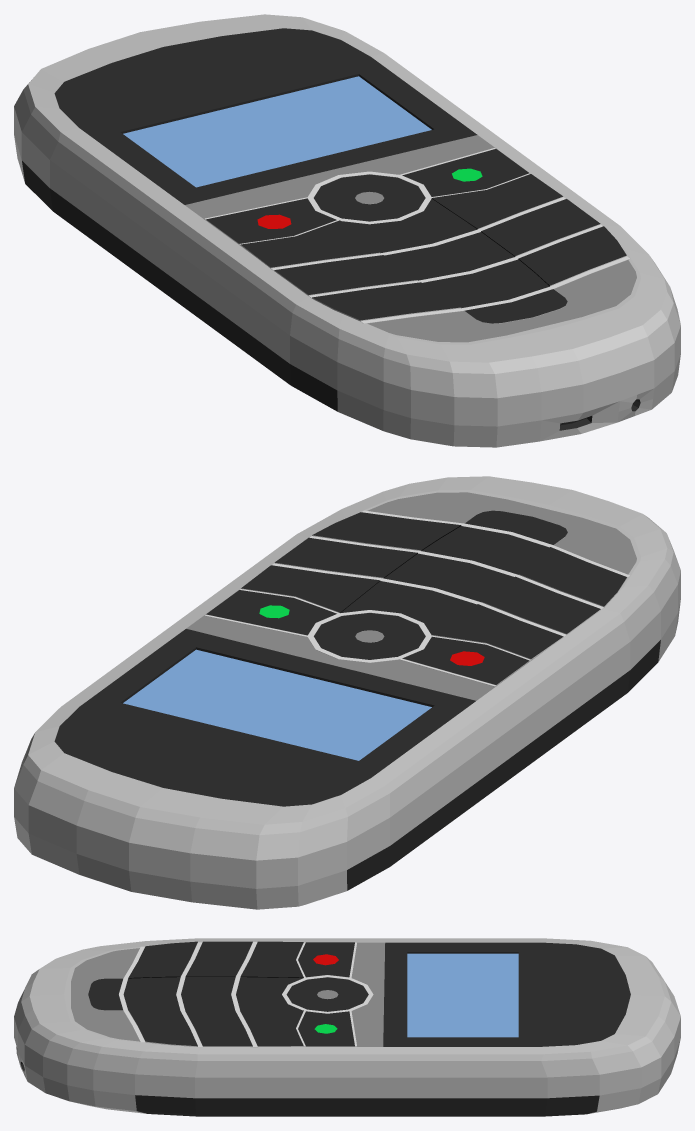
The model's file is Phone.fbx.
3 renders of one model, top to bottom at view 1: azimuth 30°, elevation 25°; view 2: azimuth 150°, elevation 25°; view 3: azimuth 270°, elevation 25°, orthographic. The views are drawn at different scales.
Visible parts, largest first — view 1: Phone; view 2: Phone; view 3: Phone.
Boxes of the visible parts, x1=… form: Phone: x1=14, y1=14, x2=680, y2=447; Phone: x1=14, y1=476, x2=680, y2=909; Phone: x1=14, y1=938, x2=680, y2=1116.
Size of the model in its own units: 93.29 by 24.72 by 216.
